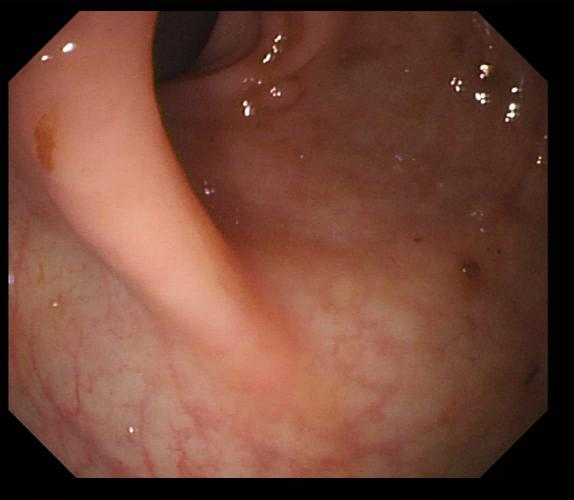polyp: (263, 77, 303, 111)
